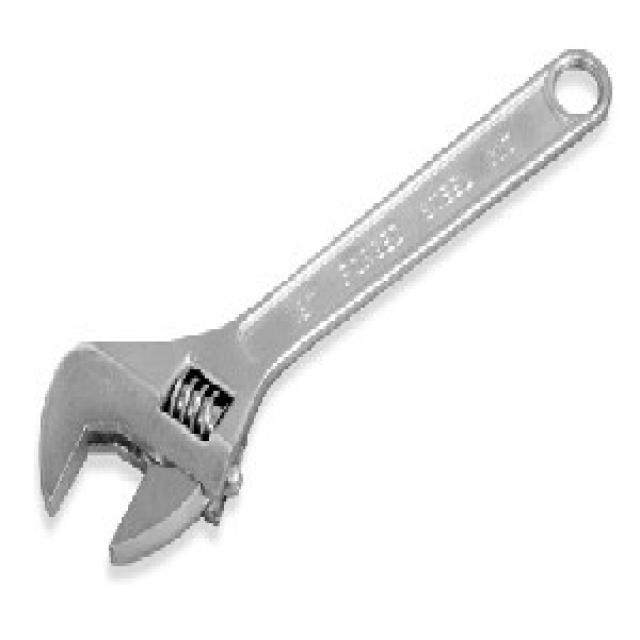wrench: (30, 41, 616, 574)
